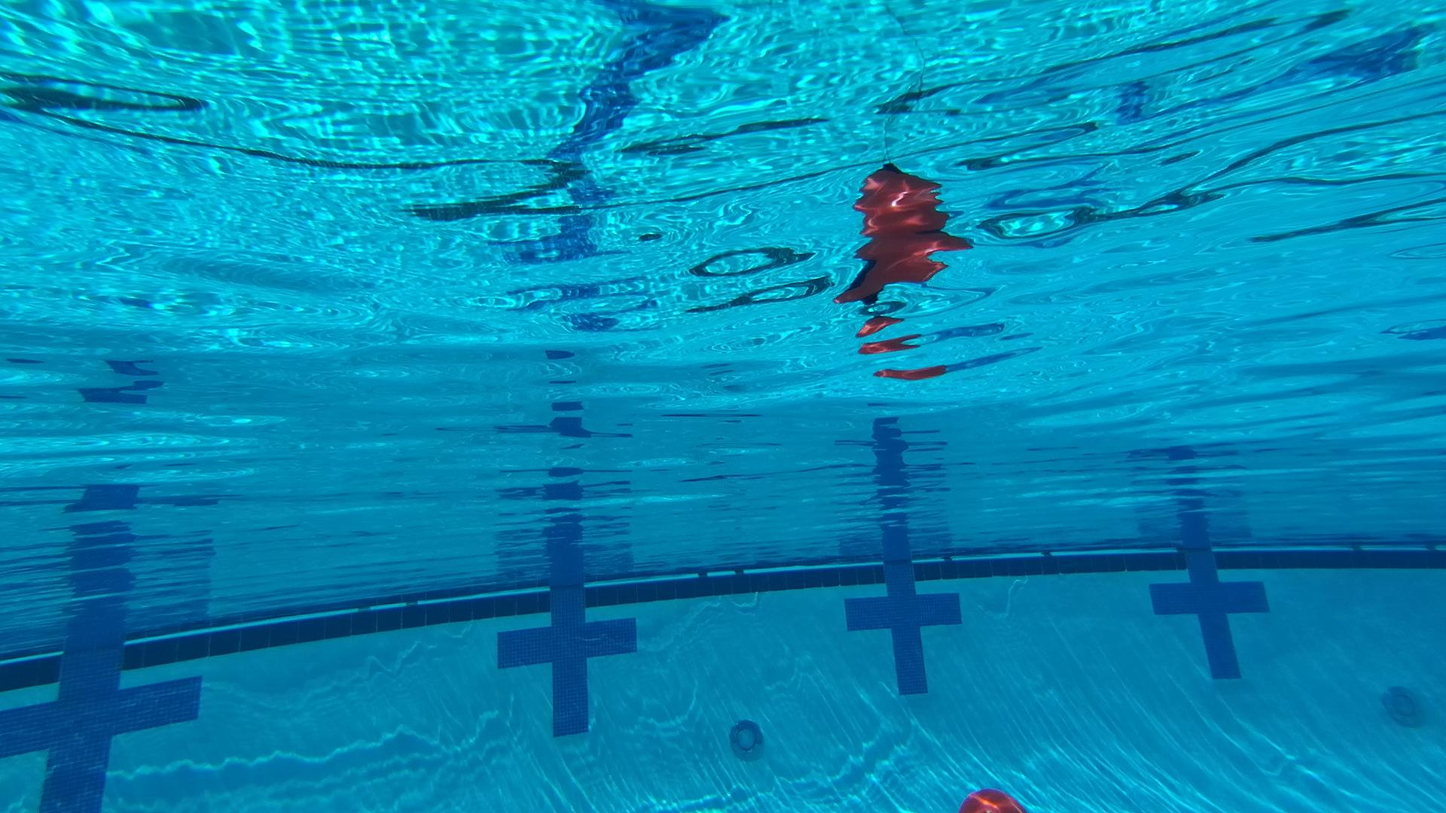buoy: (959, 787, 1025, 811)
